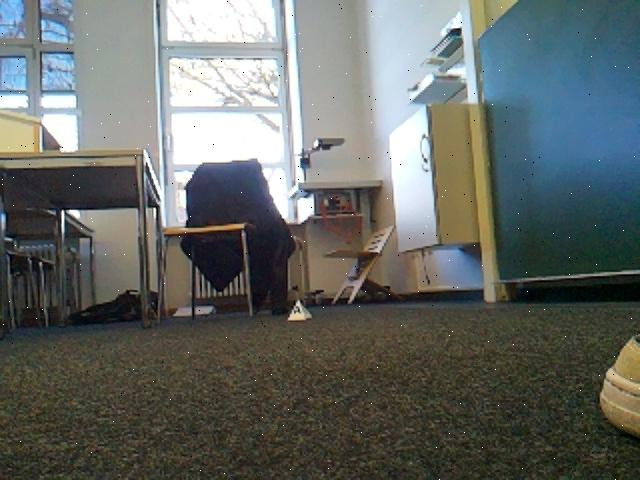A: (290, 300, 310, 320)
